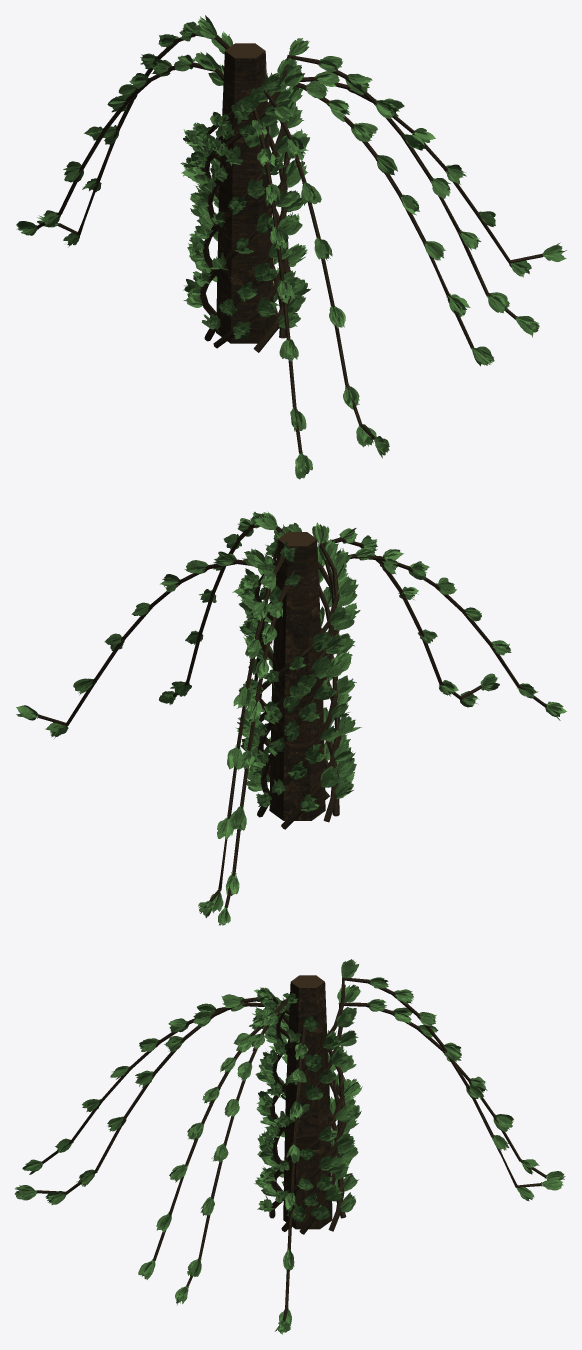
The model's file is liana_cluster_v01.fbx.
3 renders of one model, top to bottom at view 1: azimuth 30°, elevation 25°; view 2: azimuth 150°, elevation 25°; view 3: azimuth 270°, elevation 25°, orthographic. The views are drawn at different scales.
Parts seen in each view (by area): view 1: liana_cluster_v01; view 2: liana_cluster_v01; view 3: liana_cluster_v01.
Boxes of the visible parts, x1,y1,x2,y2 form: liana_cluster_v01: [16, 15, 566, 479]; liana_cluster_v01: [16, 511, 566, 925]; liana_cluster_v01: [15, 959, 565, 1334].
Size of the model in its own units: 150 by 104 by 202.
Materials: 2 (2 with a texture image).
